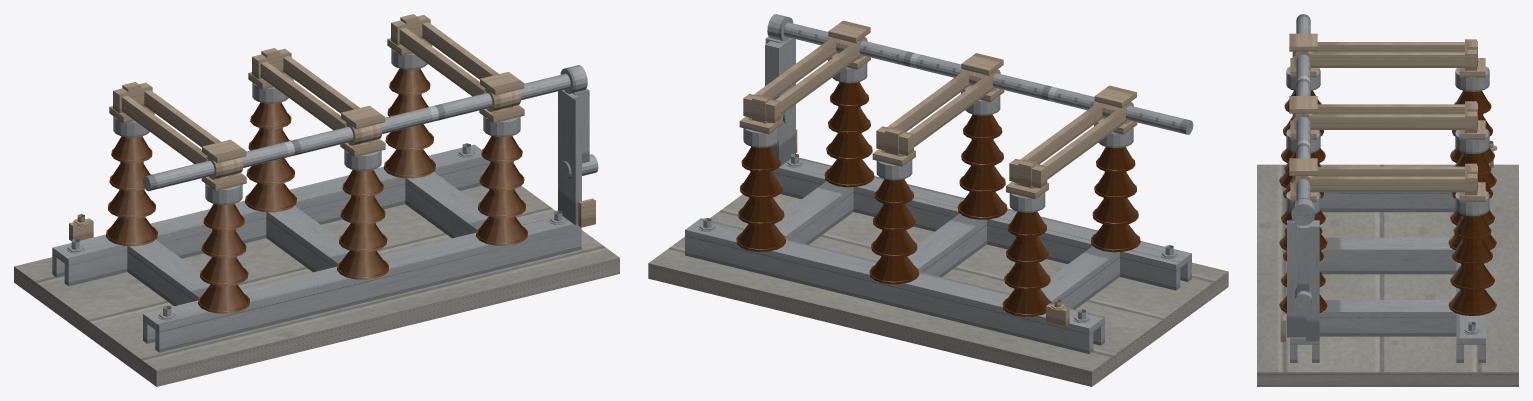
The model's file is mv_disconnector.obj.
3 renders of one model, left to right at view 1: azimuth 30°, elevation 25°; view 2: azimuth 150°, elevation 25°; view 3: azimuth 270°, elevation 25°, orthographic. The views are drawn at different scales.
Parts seen in each view (by area): view 1: frame, pad, rotate_blade, shaft, insulator_5, insulator_6, insulator_4, insulator_1, insulator_2, insulator_3, earth; view 2: frame, pad, rotate_blade, shaft, insulator_2, insulator_3, insulator_1, insulator_4, insulator_5, insulator_6, earth; view 3: pad, rotate_blade, frame, shaft, insulator_3, insulator_2, insulator_1, insulator_5, insulator_4, insulator_6.
Part boxes in pixels (x1,y1,x2,y2): frame: (52,143,581,352); pad: (14,185,619,386); rotate_blade: (113,15,598,179); shaft: (143,65,595,227); insulator_5: (337,123,388,279); insulator_6: (476,89,527,245); insulator_4: (198,156,249,313); insulator_1: (106,82,157,246); insulator_2: (245,48,296,212); insulator_3: (384,14,435,178); earth: (69,214,93,240); frame: (685,153,1191,353); pad: (648,194,1228,386); rotate_blade: (743,20,1136,188); shaft: (765,14,1193,167); insulator_2: (869,127,919,284); insulator_3: (736,94,785,251); insulator_1: (1002,159,1051,316); insulator_4: (1091,102,1140,252); insulator_5: (957,69,1007,219); insulator_6: (824,37,874,187); earth: (1046,299,1069,326); pad: (1257,164,1518,386); rotate_blade: (1289,33,1476,309); frame: (1290,192,1485,362); shaft: (1280,14,1319,342); insulator_3: (1448,165,1496,315); insulator_2: (1448,103,1496,250); insulator_1: (1450,41,1496,187); insulator_5: (1279,113,1327,250); insulator_4: (1279,51,1325,187); insulator_6: (1279,176,1327,312).
Size of what is drawn, in the model's own units: 0.9 by 0.366 by 0.48.
